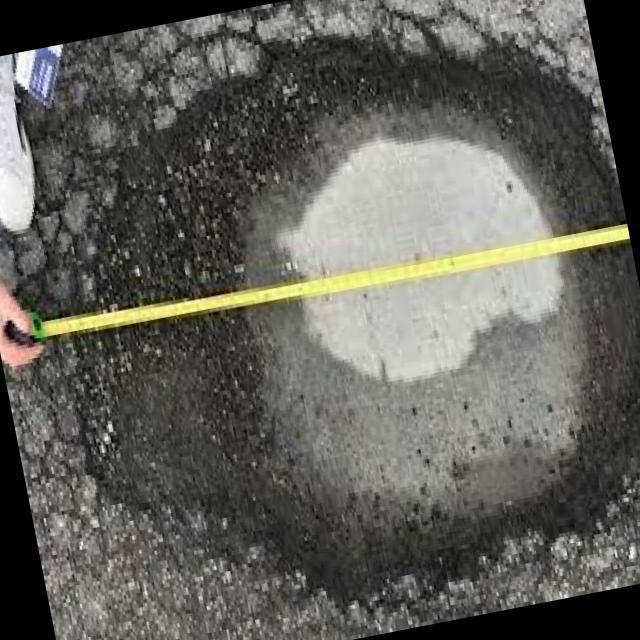Pothole: (96, 242, 640, 635), (110, 39, 627, 309)
